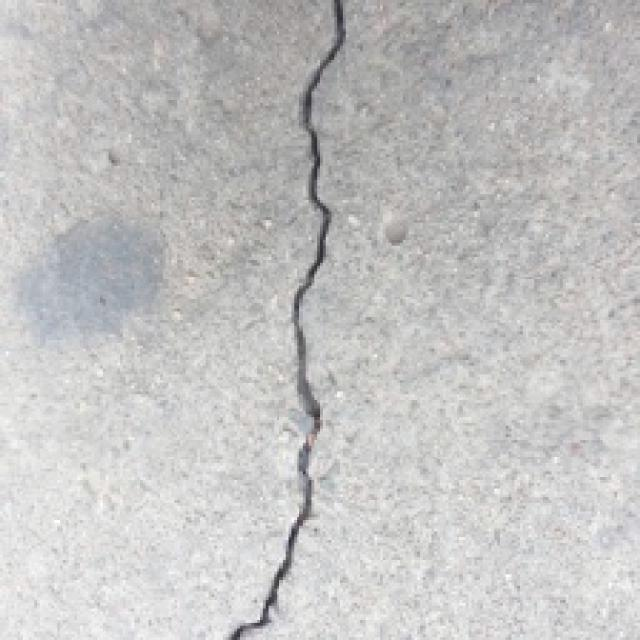SurfaceCrack: (228, 0, 348, 634)
